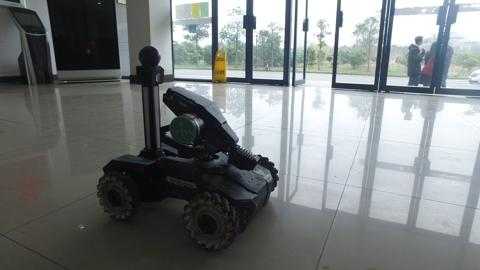chariot: (89, 43, 282, 253)
